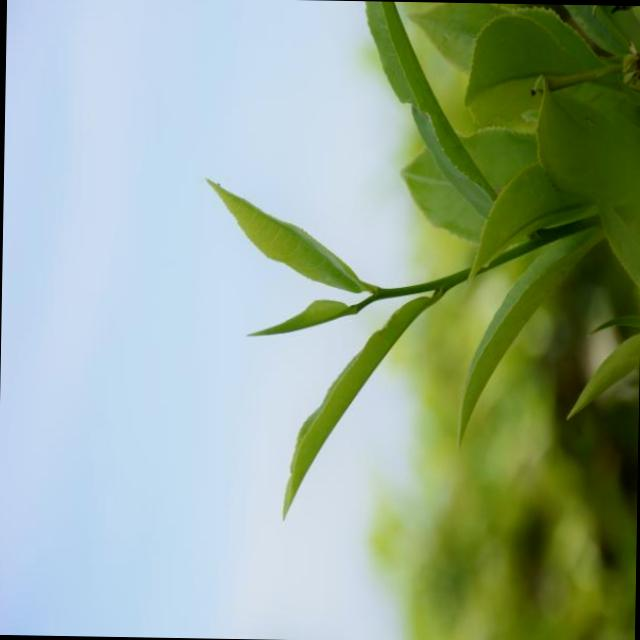Stem: (374, 286, 386, 300)
